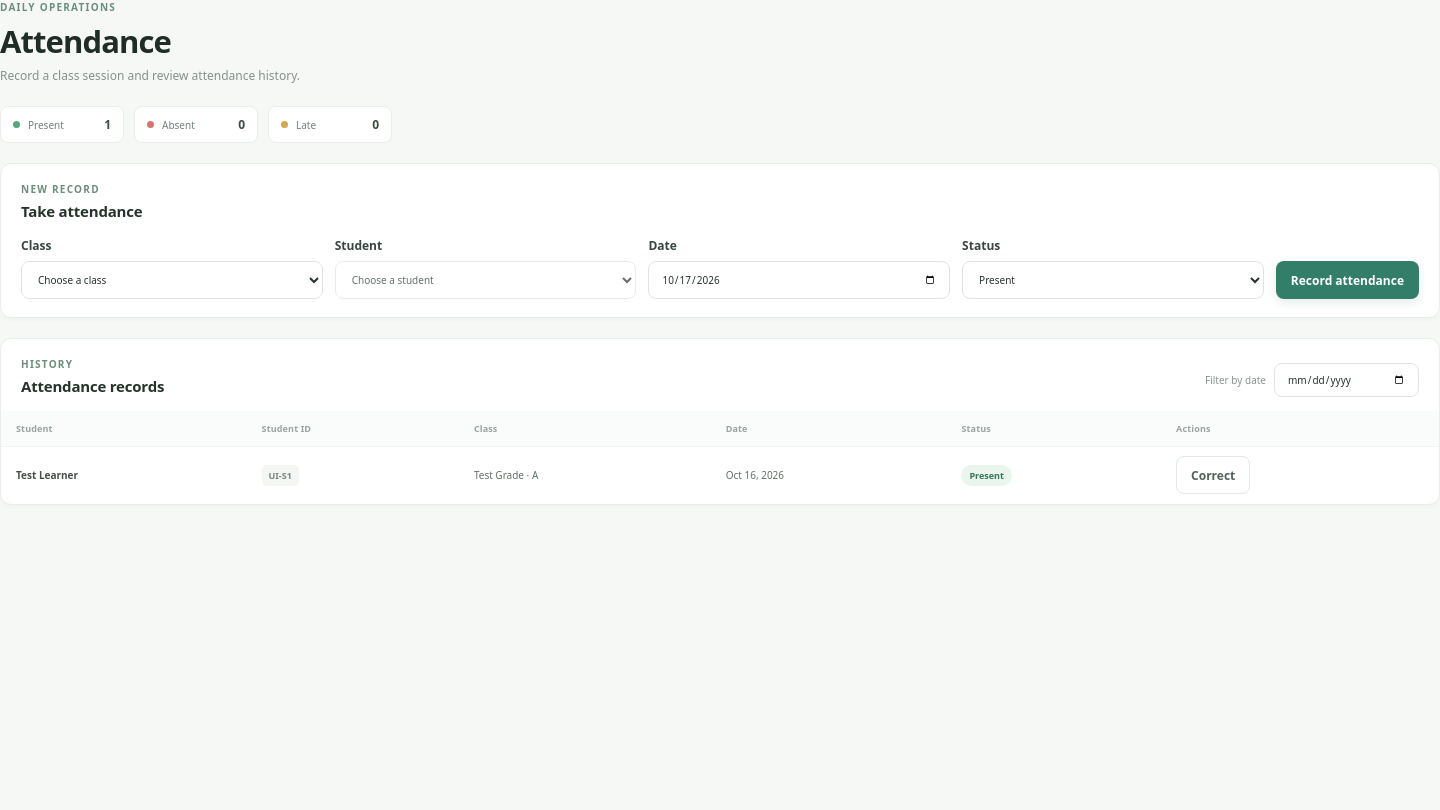
Test: AttendancePage correction › shows a correction error without changing the displayed status
Click the button "Correct".
click(1213, 475)  # box [1176, 456, 1250, 494]
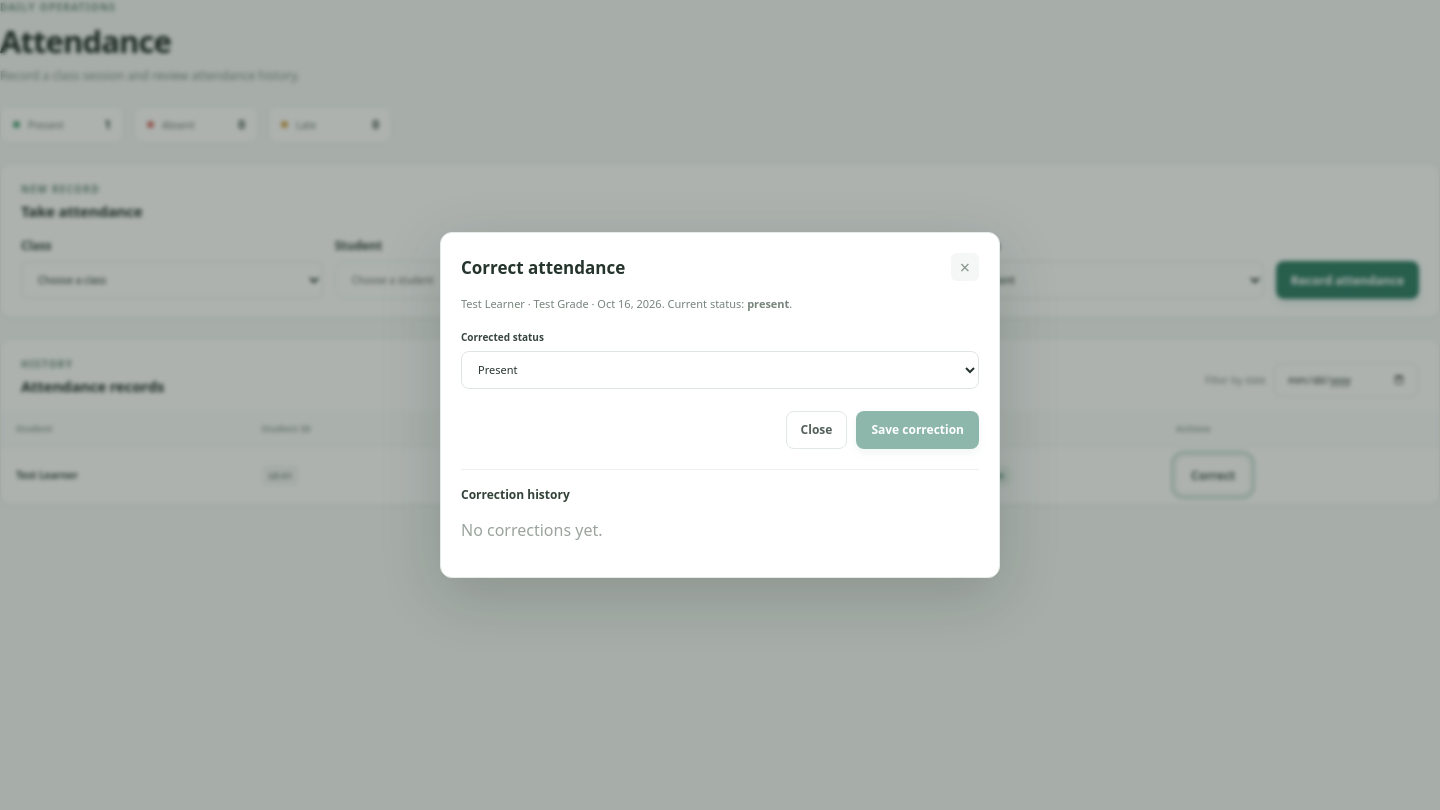
Select "Late" in the dropdown labelled "Corrected status" at [720, 370], box [461, 351, 979, 389]
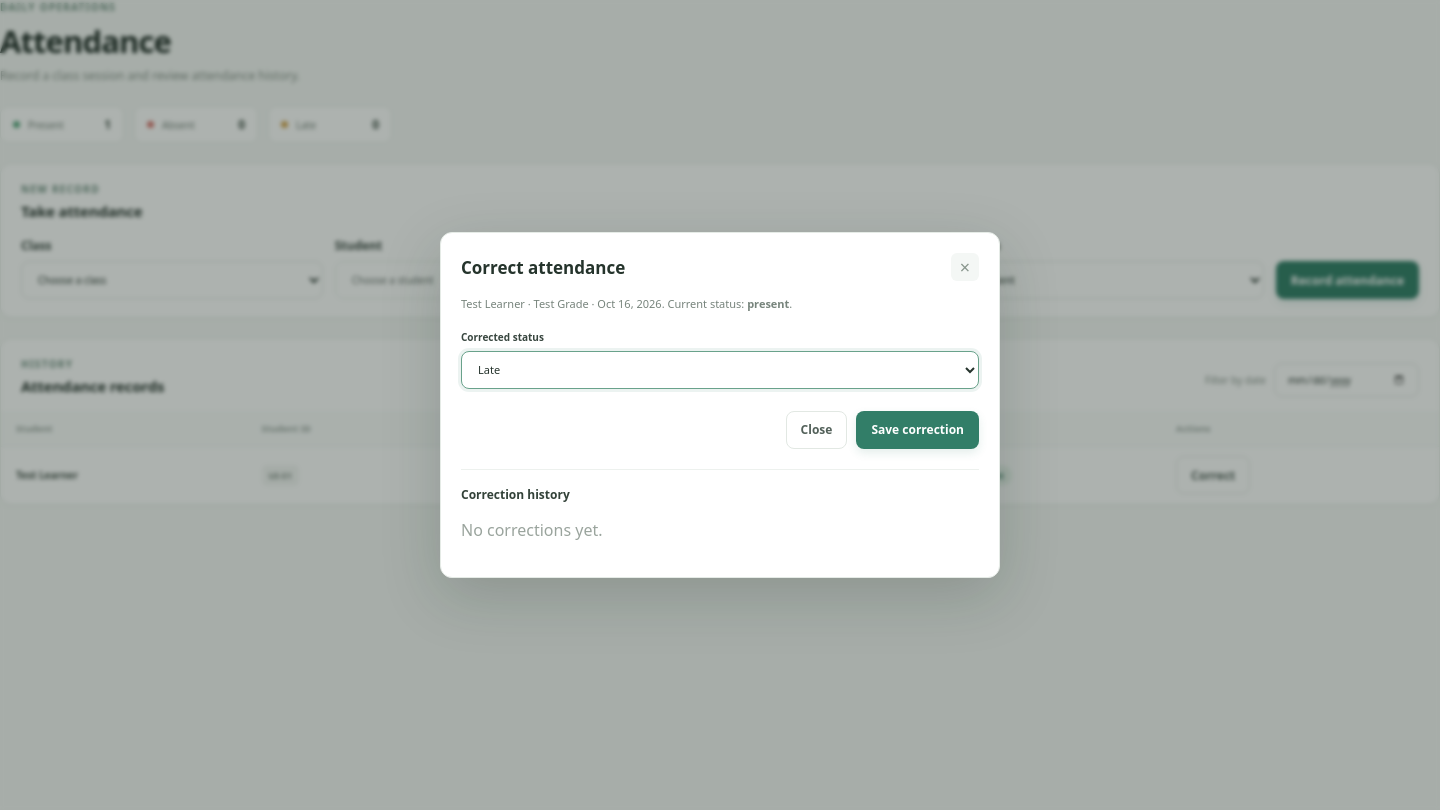
Click the button "Save correction".
click(918, 430)  # box [856, 411, 979, 449]
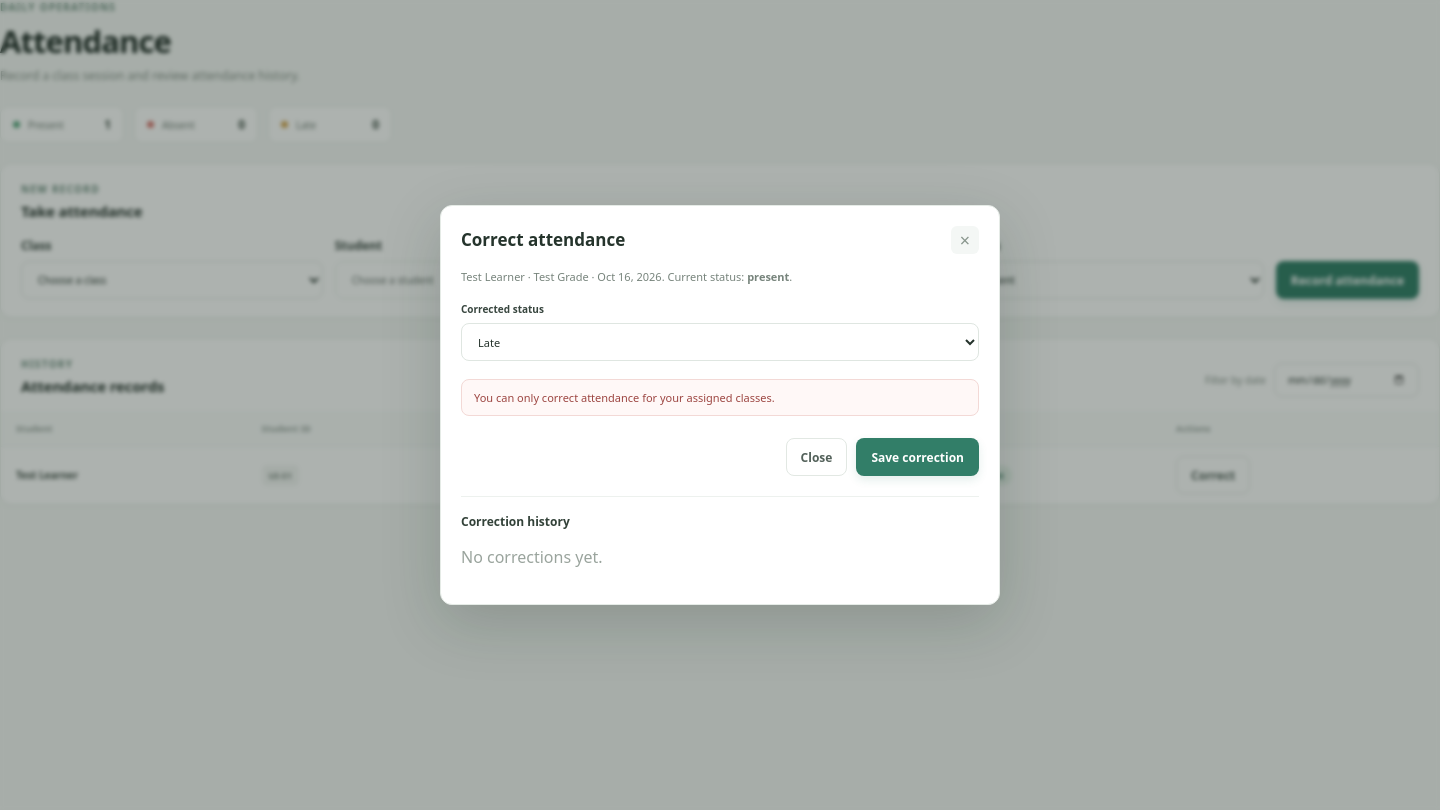
Expected: the text "Current status:" shows "present", [747, 269, 789, 284]
Expected: the message reads "You can only correct attendance for your assigned classes.", [474, 390, 775, 405]
